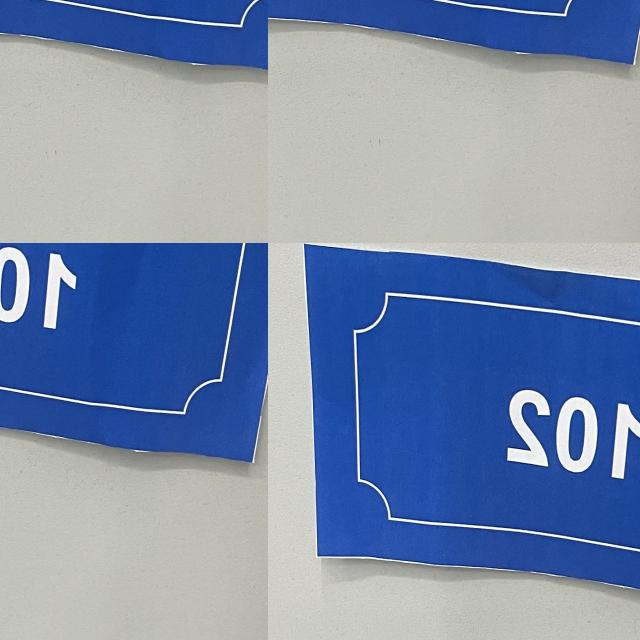Card: (297, 243, 640, 640), (0, 243, 266, 396), (268, 77, 347, 243), (155, 0, 268, 35)
